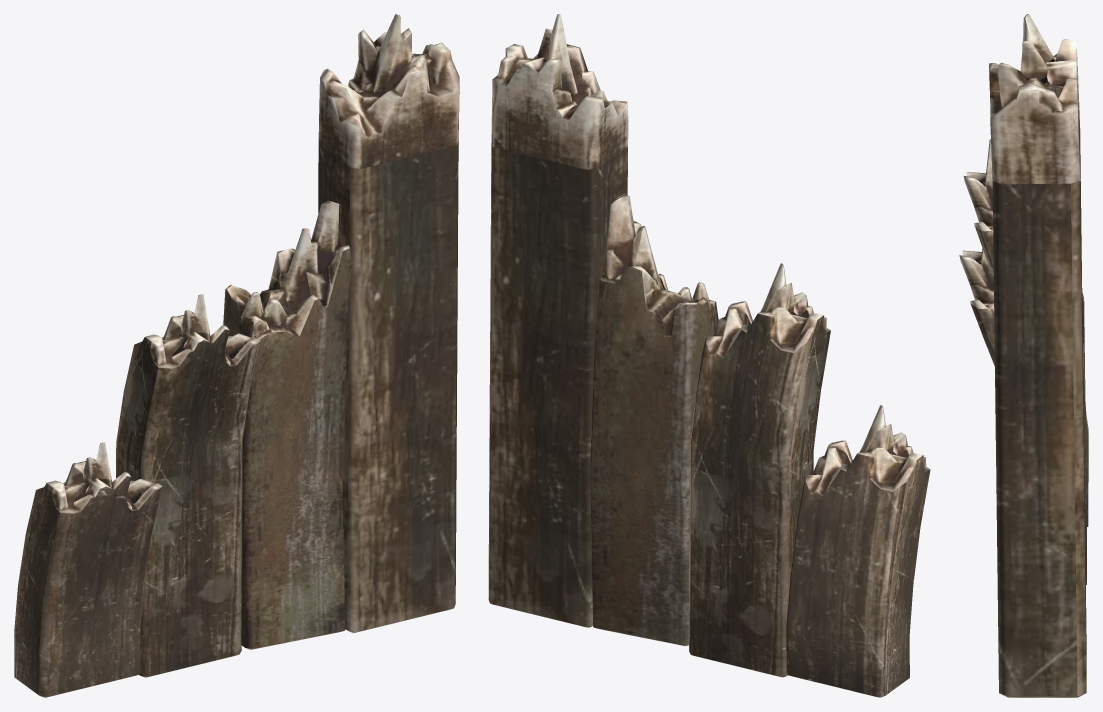
The picture shows the model from 3 angles, left to right: view 1: azimuth 30°, elevation 25°; view 2: azimuth 150°, elevation 25°; view 3: azimuth 270°, elevation 25°; orthographic projection. The views are drawn at different scales.
Visible parts, largest first — view 1: SM_Human_Ruins_Wall_Wood_Dmg_02_LOD0; view 2: SM_Human_Ruins_Wall_Wood_Dmg_02_LOD0; view 3: SM_Human_Ruins_Wall_Wood_Dmg_02_LOD0.
Part boxes in pixels (box(x1,y1,x2,y2)): SM_Human_Ruins_Wall_Wood_Dmg_02_LOD0: box(14, 14, 459, 697); SM_Human_Ruins_Wall_Wood_Dmg_02_LOD0: box(488, 14, 930, 697); SM_Human_Ruins_Wall_Wood_Dmg_02_LOD0: box(959, 14, 1088, 697).
Bounding box in the file's own units: 0.9996 × 1.41 × 0.2488.
1 material, 1 textured.
